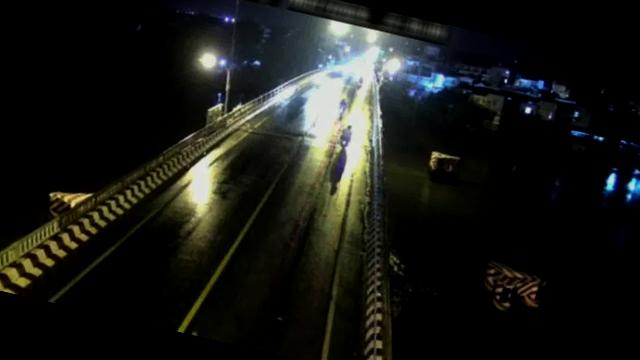Bike: (336, 122, 355, 150)
